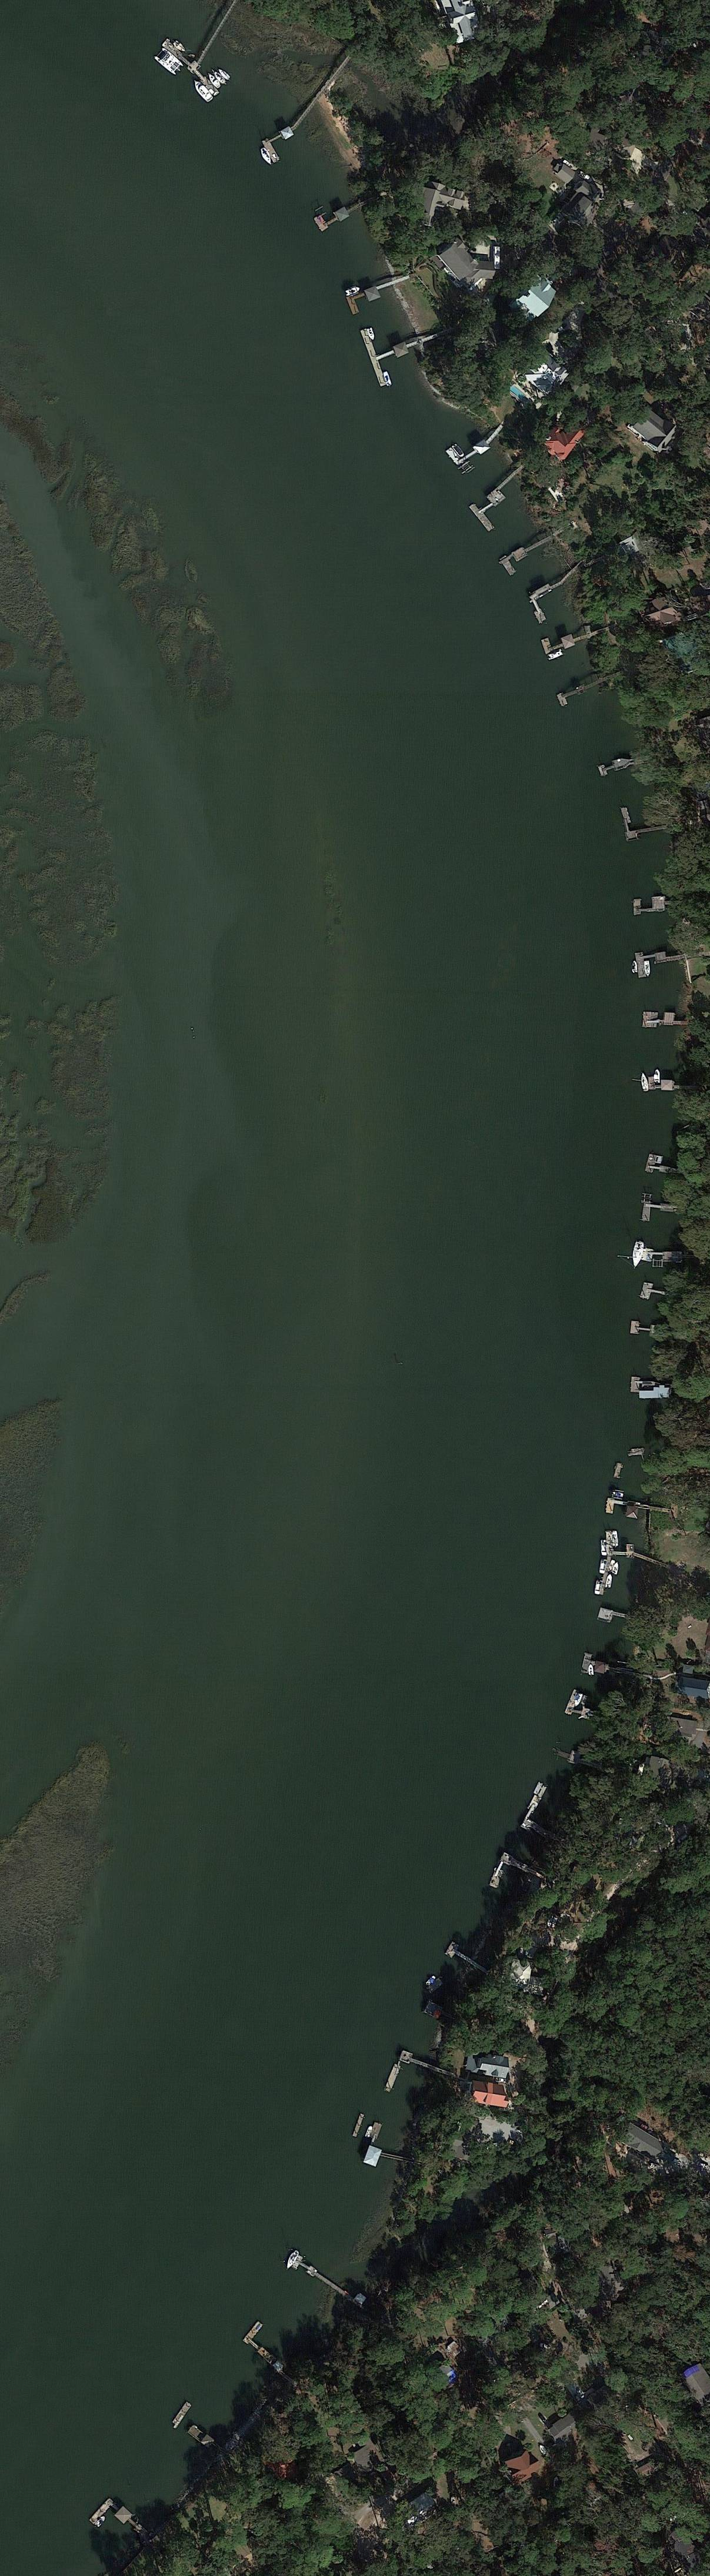harbor: (151, 0, 270, 97), (360, 314, 436, 386), (470, 465, 539, 531), (385, 2049, 452, 2109), (89, 2494, 151, 2558), (242, 2320, 302, 2382), (524, 567, 590, 624), (362, 2121, 417, 2180), (447, 419, 508, 470), (490, 1853, 546, 1907), (291, 2256, 353, 2303), (500, 531, 557, 577), (347, 276, 409, 315), (557, 670, 621, 706), (541, 623, 598, 657), (314, 194, 365, 232), (621, 802, 669, 841), (565, 1687, 613, 1727), (444, 1942, 495, 1978), (261, 123, 306, 163), (595, 1529, 620, 1597), (634, 946, 687, 977), (518, 1781, 549, 1832), (580, 1653, 626, 1684), (598, 752, 652, 777), (606, 1497, 659, 1521), (187, 2423, 222, 2456), (643, 1010, 692, 1032), (641, 1201, 682, 1224), (634, 895, 684, 913), (646, 1153, 679, 1180), (648, 1076, 697, 1092), (598, 1607, 633, 1630), (629, 1375, 666, 1396), (639, 1281, 672, 1304), (641, 1249, 687, 1263), (629, 1321, 666, 1339)
ship: (191, 79, 215, 105), (258, 146, 274, 169), (210, 67, 228, 87), (205, 71, 222, 90), (217, 66, 232, 82)
